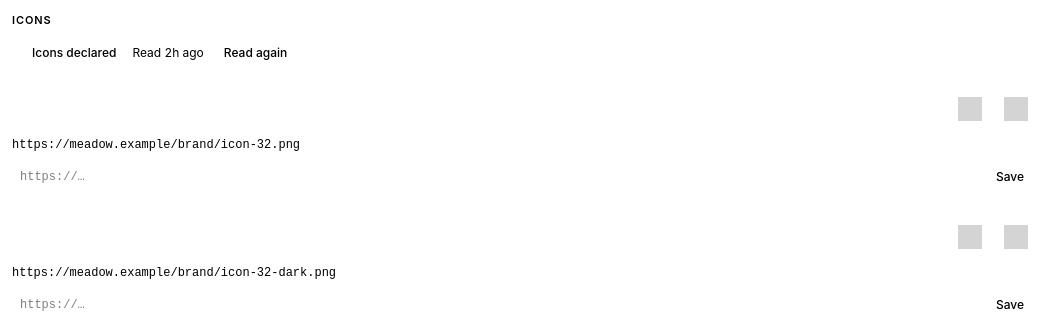
Test: the Identity card's icons › says why a press read nothing
The image size is (1048, 328).
Click the button "Read again" at (256, 52), box [212, 36, 299, 68]
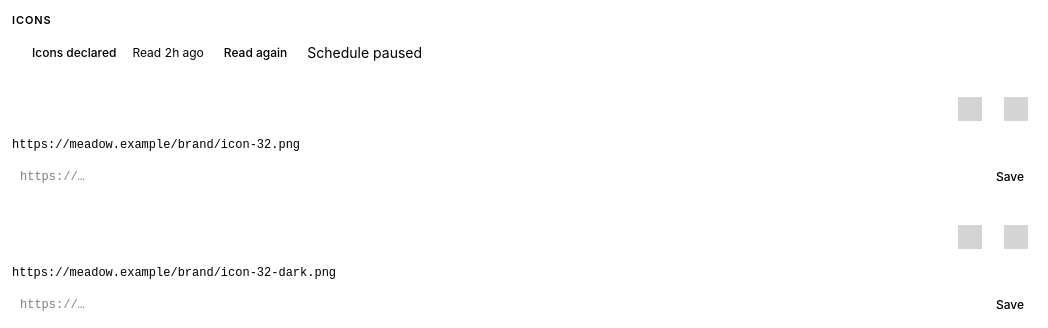
expect the element showing "Icons declared Read 2h ago Read again Schedule paused" is shown: met, box [32, 36, 422, 68]
expect the message "Schedule paused" is shown: met, box [307, 42, 422, 62]
